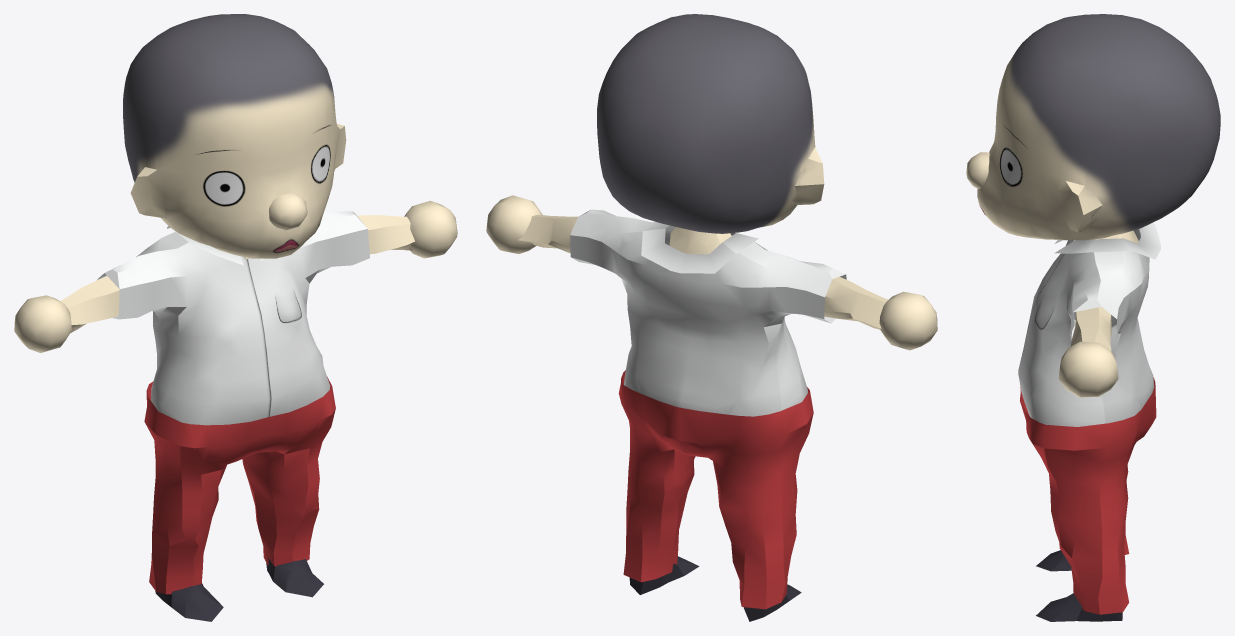
The model's file is Lukas Hendrawan TEXTURING.fbx.
The picture shows the model from 3 angles, left to right: view 1: azimuth 30°, elevation 25°; view 2: azimuth 150°, elevation 25°; view 3: azimuth 270°, elevation 25°; orthographic projection.
Parts seen in each view (by area): view 1: Cube.001, Cube.000, Cube.003, Sphere, Cube.002, Cube.004, Sphere.001; view 2: Cube.001, Cube.000, Cube.003, Sphere, Cube.002, Cube.004; view 3: Cube.001, Cube.000, Cube.003, Sphere, Cube.004, Cube.002, Sphere.001.
Part boxes in pixels (<box>): Cube.001: <box>123,14,346,258</box>; Cube.000: <box>96,211,369,425</box>; Cube.003: <box>144,376,335,594</box>; Sphere: <box>14,200,457,352</box>; Cube.002: <box>60,215,414,332</box>; Cube.004: <box>155,558,323,621</box>; Sphere.001: <box>269,193,307,230</box>; Cube.001: <box>597,14,824,233</box>; Cube.000: <box>570,209,846,416</box>; Cube.003: <box>618,370,813,609</box>; Sphere: <box>486,195,937,350</box>; Cube.002: <box>518,214,888,329</box>; Cube.004: <box>629,556,801,621</box>; Cube.001: <box>977,14,1220,240</box>; Cube.000: <box>1018,222,1160,426</box>; Cube.003: <box>1020,377,1156,614</box>; Sphere: <box>1058,341,1118,397</box>; Cube.004: <box>1036,550,1122,621</box>; Cube.002: <box>1071,230,1138,351</box>; Sphere.001: <box>966,152,989,188</box>.
Size of the model in its own units: 215 by 265 by 108.
